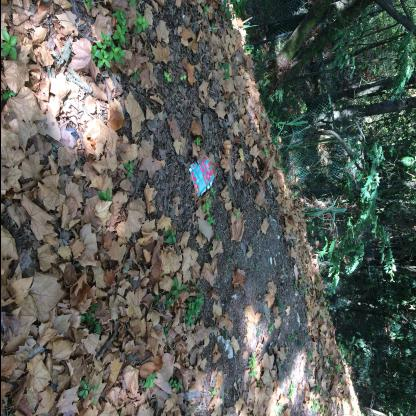karton: (188, 156, 214, 197)
